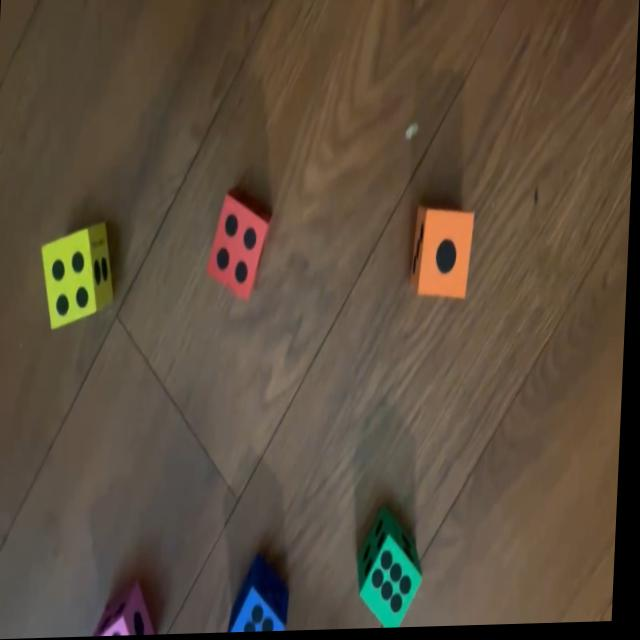blue_block: (234, 559, 296, 634)
red_block: (206, 189, 274, 301)
